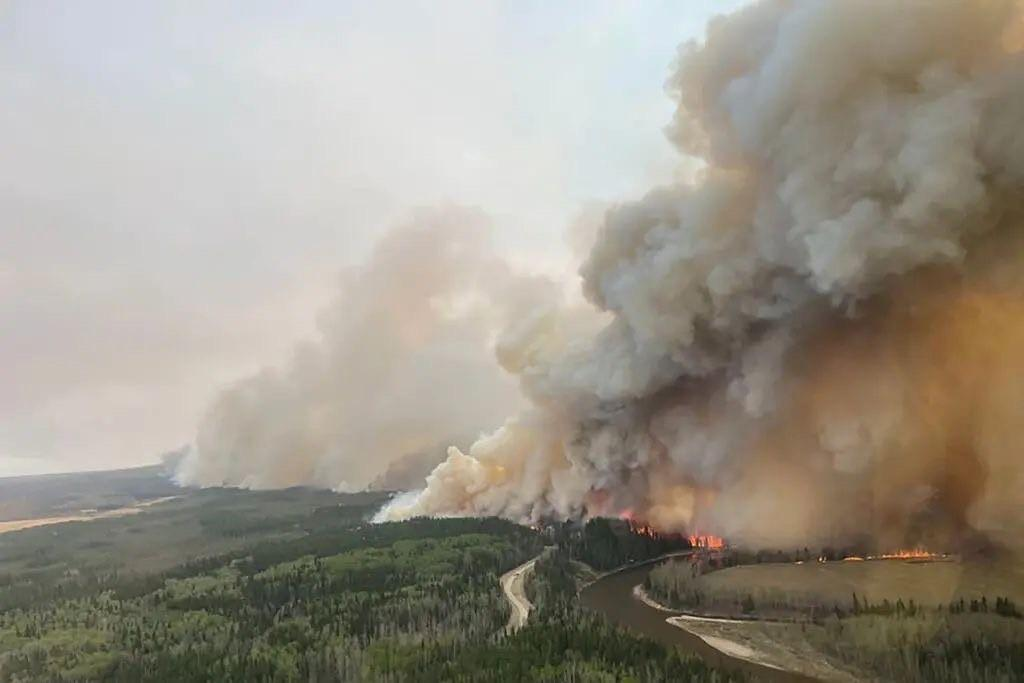fire: (815, 533, 953, 566), (683, 525, 727, 557), (625, 516, 665, 550)
smoke: (514, 118, 1024, 487), (158, 295, 388, 552), (353, 412, 567, 540)
